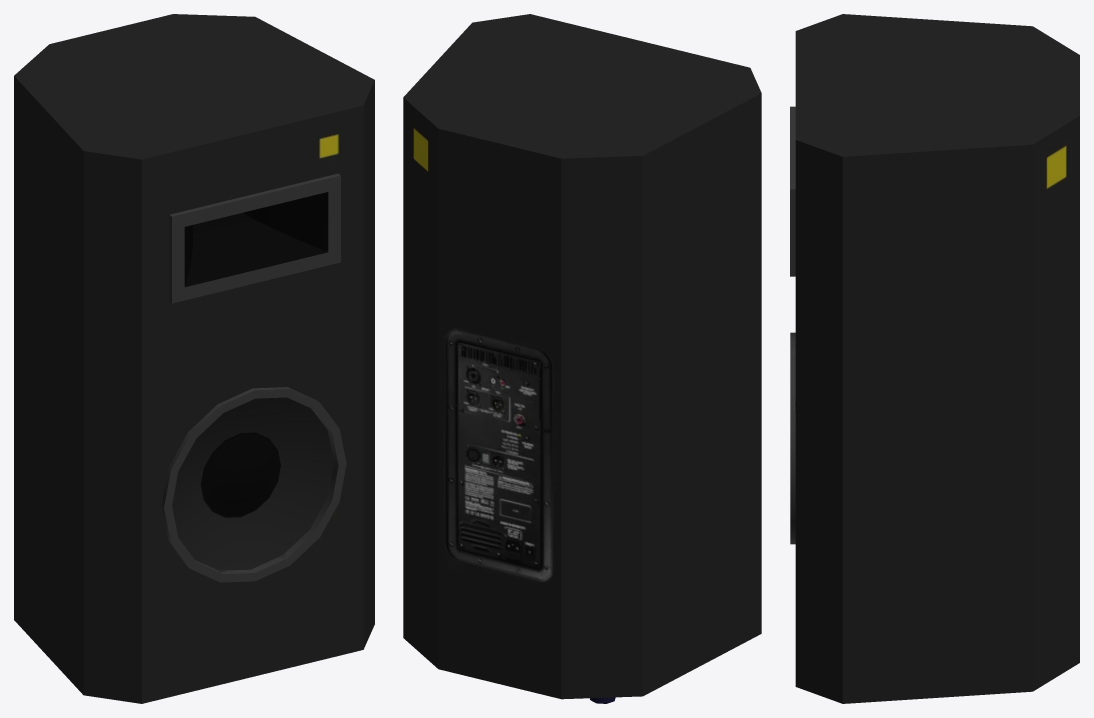
File: low-poly-ground-speakers-transformed.glb
3 views of the same model, side by side, from view 1: azimuth 30°, elevation 25°; view 2: azimuth 150°, elevation 25°; view 3: azimuth 270°, elevation 25° (orthographic).
Parts seen in each view (by area): view 1: PA_speakers_0; view 2: PA_speakers_0; view 3: PA_speakers_0.
Boxes of the visible parts, left/top/right/bottom form: PA_speakers_0: left=14, top=14, right=374, bottom=703; PA_speakers_0: left=403, top=14, right=761, bottom=703; PA_speakers_0: left=790, top=14, right=1079, bottom=703.
Bounding box in the file's own units: 1.92 × 3.52 × 1.64.
Materials: 1 (1 with a texture image).
